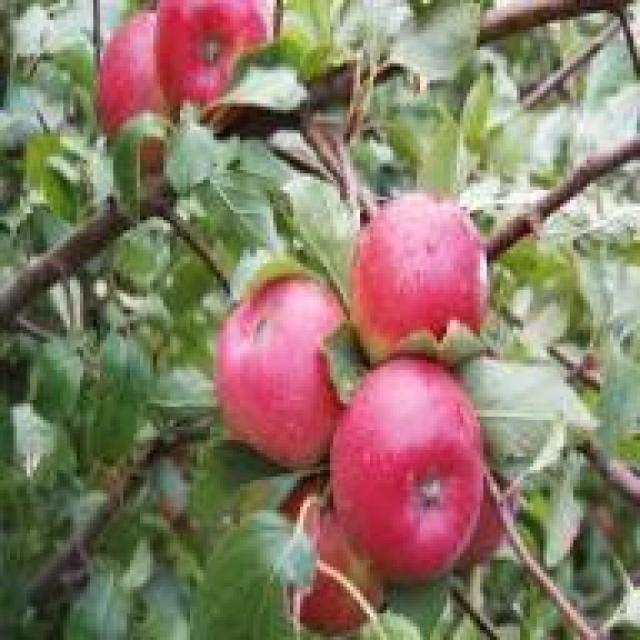apple: (330, 373, 477, 560), (217, 267, 343, 450), (357, 183, 473, 377), (93, 17, 177, 140)
